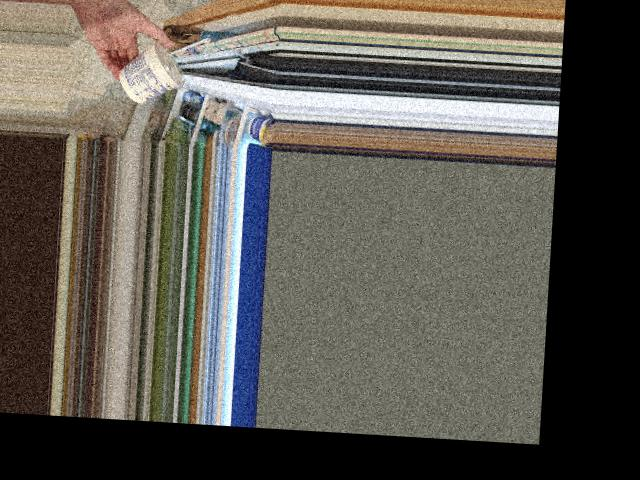cotage: (115, 38, 190, 98)
